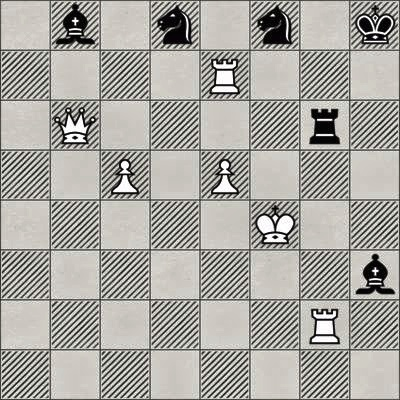black-bishop: (50, 0, 100, 50), (350, 250, 400, 300)
black-king: (350, 0, 400, 50)
black-knight: (150, 0, 200, 50), (250, 0, 300, 50)
black-rook: (300, 100, 350, 150)
white-king: (250, 200, 300, 250)
white-pawn: (100, 150, 150, 200), (200, 150, 250, 200)
white-queen: (50, 100, 100, 150)
white-rook: (200, 50, 250, 100), (300, 300, 350, 350)
